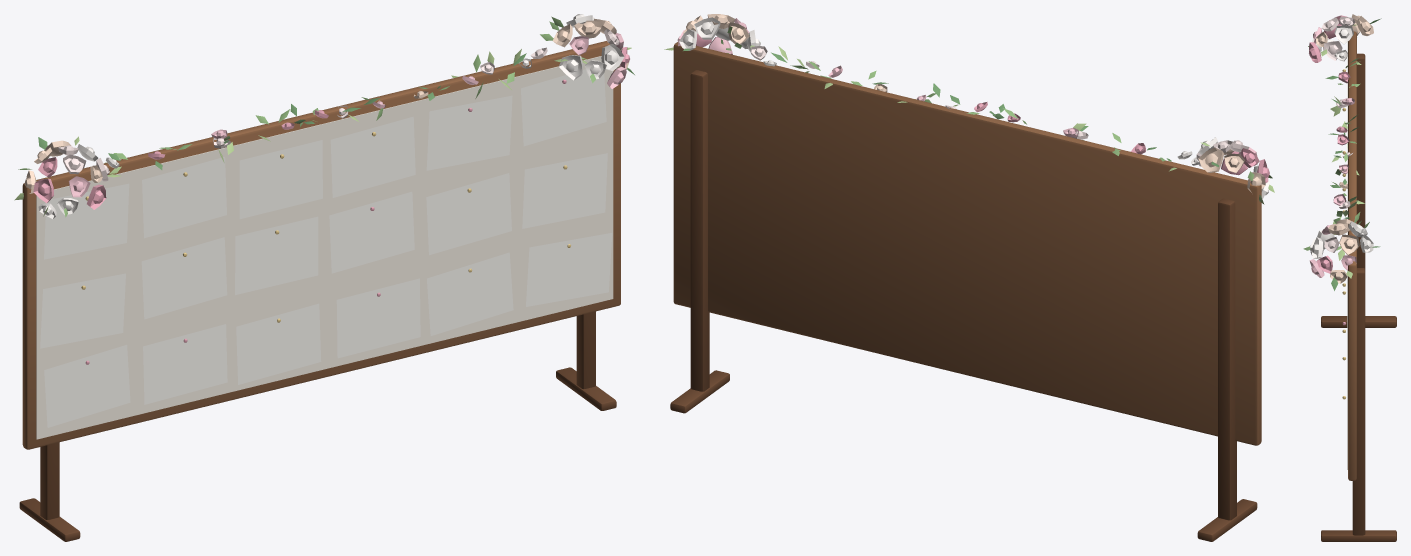
File: wishes-board.glb
The picture shows the model from 3 angles, left to right: view 1: azimuth 30°, elevation 25°; view 2: azimuth 150°, elevation 25°; view 3: azimuth 270°, elevation 25°; orthographic projection. The views are drawn at different scales.
Visible parts, largest first — view 1: wishes-board, card_03, card_09, card_13, card_14, card_10, card_12, card_07, card_11, card_15, card_05, card_17 (+7 smaller); view 2: wishes-board; view 3: wishes-board.
Boxes of the visible parts, x1=… form: wishes-board: x1=14, y1=14, x2=634, y2=541; card_03: x1=239, y1=140, x2=322, y2=219; card_09: x1=235, y1=216, x2=318, y2=295; card_13: x1=44, y1=344, x2=130, y2=427; card_14: x1=143, y1=324, x2=227, y2=404; card_10: x1=329, y1=191, x2=414, y2=273; card_12: x1=522, y1=153, x2=607, y2=228; card_07: x1=40, y1=273, x2=125, y2=348; card_11: x1=426, y1=173, x2=511, y2=255; card_15: x1=236, y1=303, x2=321, y2=384; card_05: x1=426, y1=95, x2=512, y2=170; card_17: x1=427, y1=252, x2=513, y2=335; wishes-board: x1=664, y1=14, x2=1274, y2=541; wishes-board: x1=1303, y1=14, x2=1396, y2=541.
Size of the model in its own units: 4.58 by 2.74 by 0.7404.
